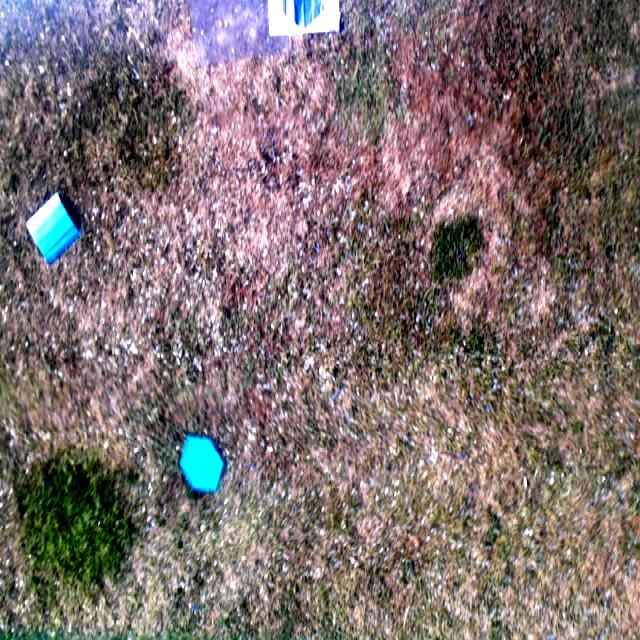blue_hexagon: (180, 434, 223, 494)
blue_square: (26, 190, 78, 264)
